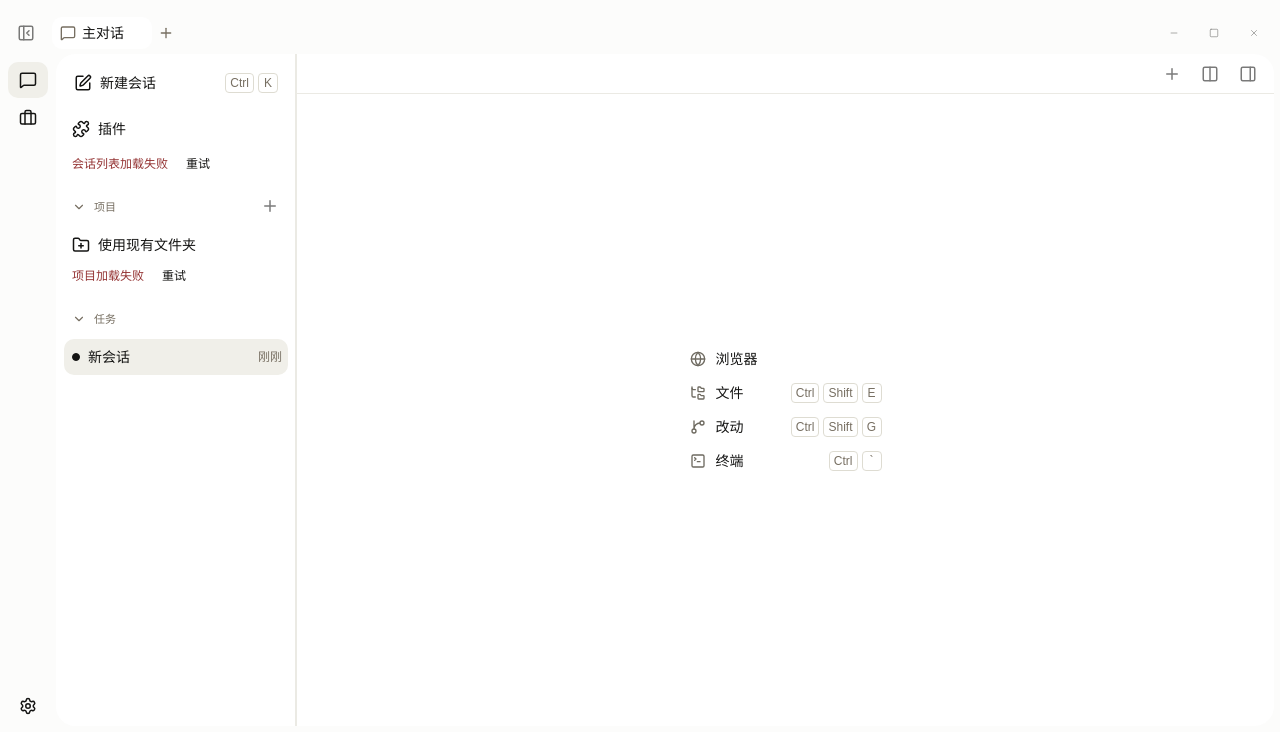
Scenario: AppShell 三栏骨架 › 实机陷阱（round 78）：拖到越界进 auto 后，「恢复并排布局」就地收回并排（不动全屏偏好）
The image size is (1280, 732).
Click the button with test id "workbench-restore-split" at x=1210, y=74, box [1192,56,1228,92]
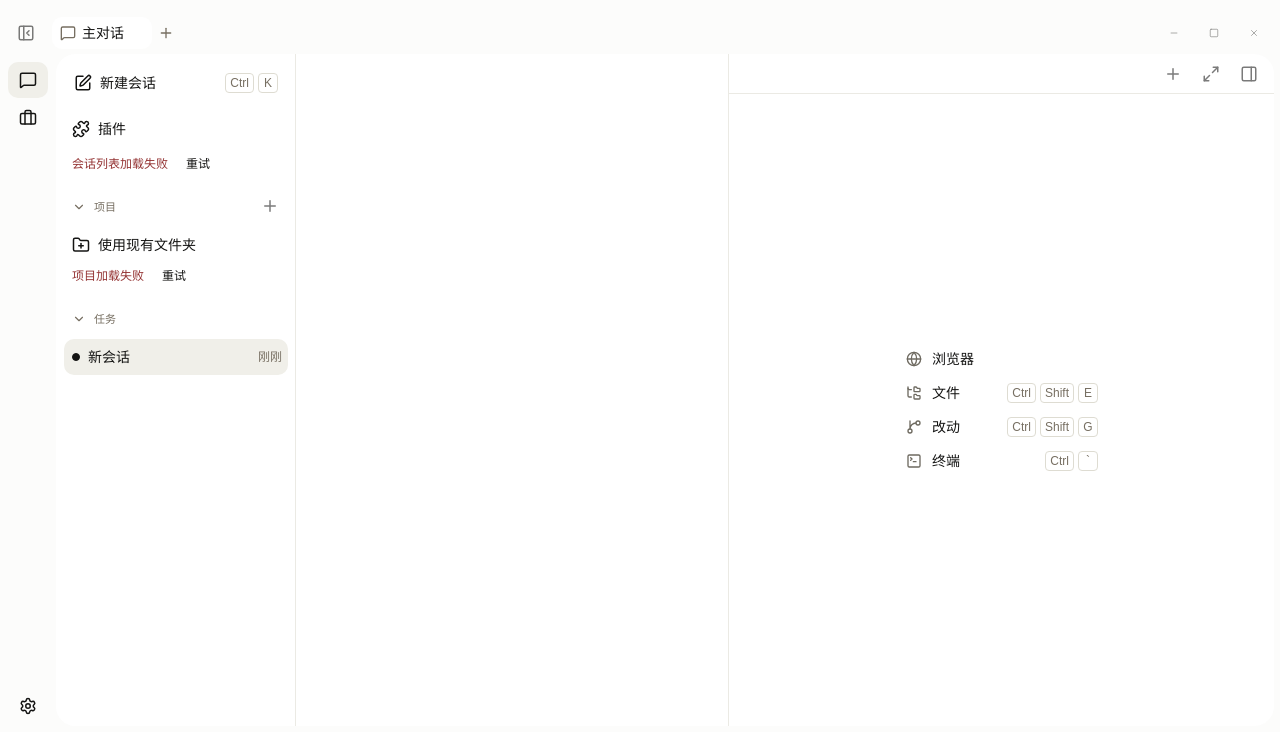
Expected: the element with test id "work-panel-resizer" is shown, [729,54,735,726]
